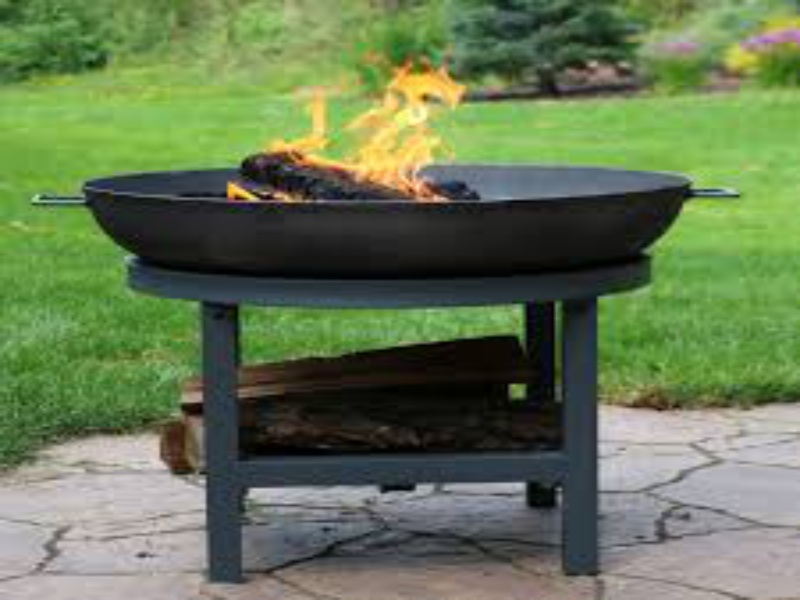fire: (353, 63, 467, 186), (299, 84, 338, 152), (265, 136, 300, 152)
